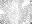person: (23, 0, 29, 9), (1, 10, 6, 14)
